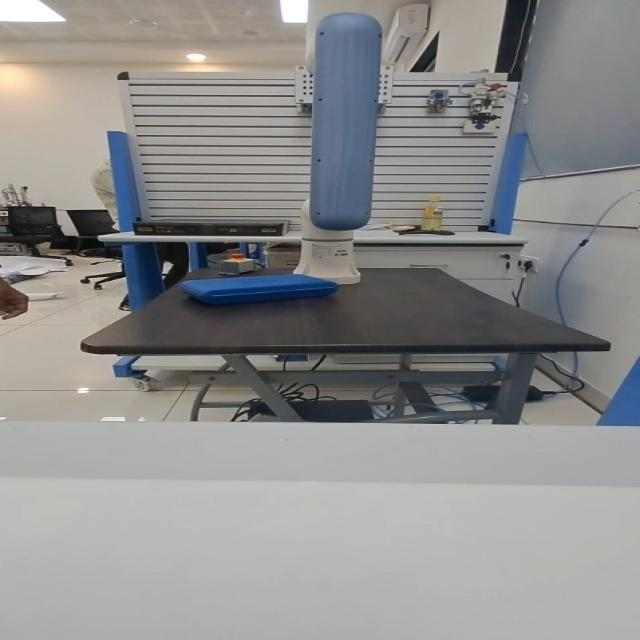top-surface: (205, 274, 312, 288)
